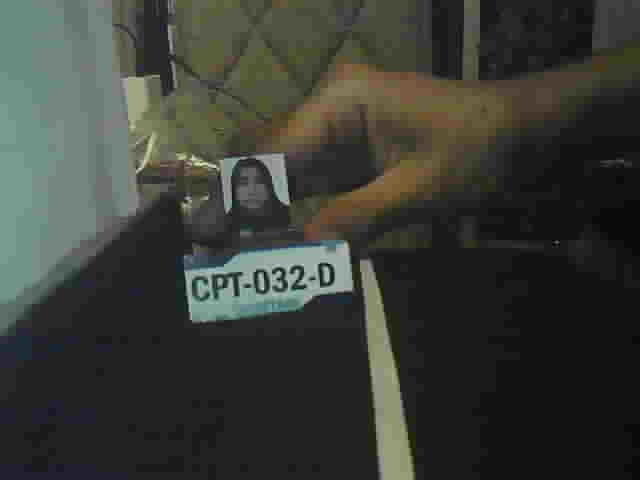PLACA: (178, 238, 355, 329)
ROSTRO: (226, 159, 291, 228)
